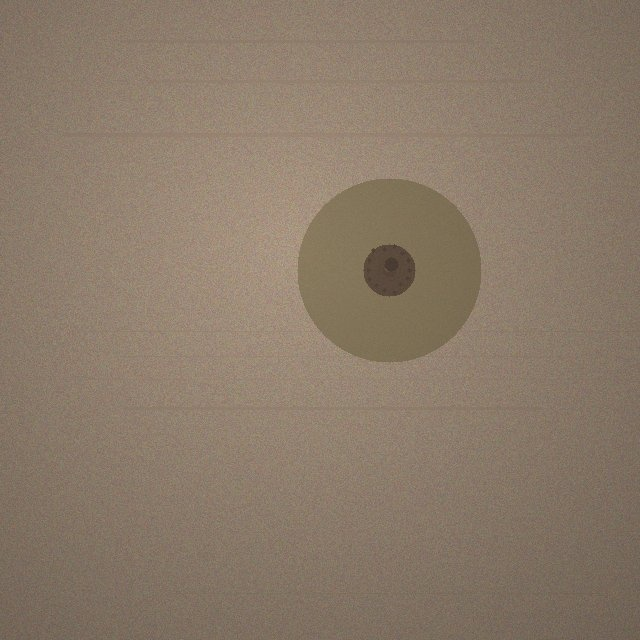cold_weld: (297, 178, 481, 362)
